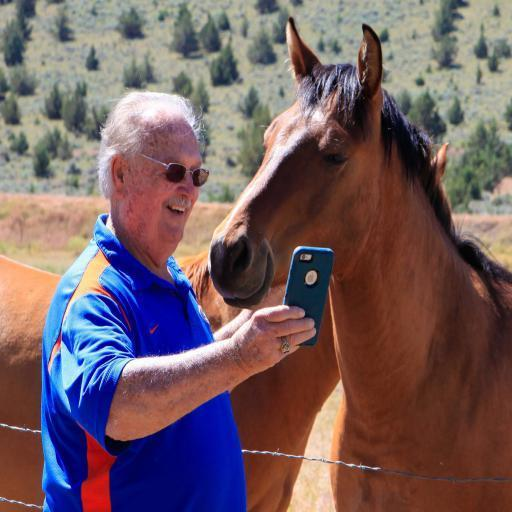horse: (0, 140, 450, 512), (206, 14, 512, 508)
